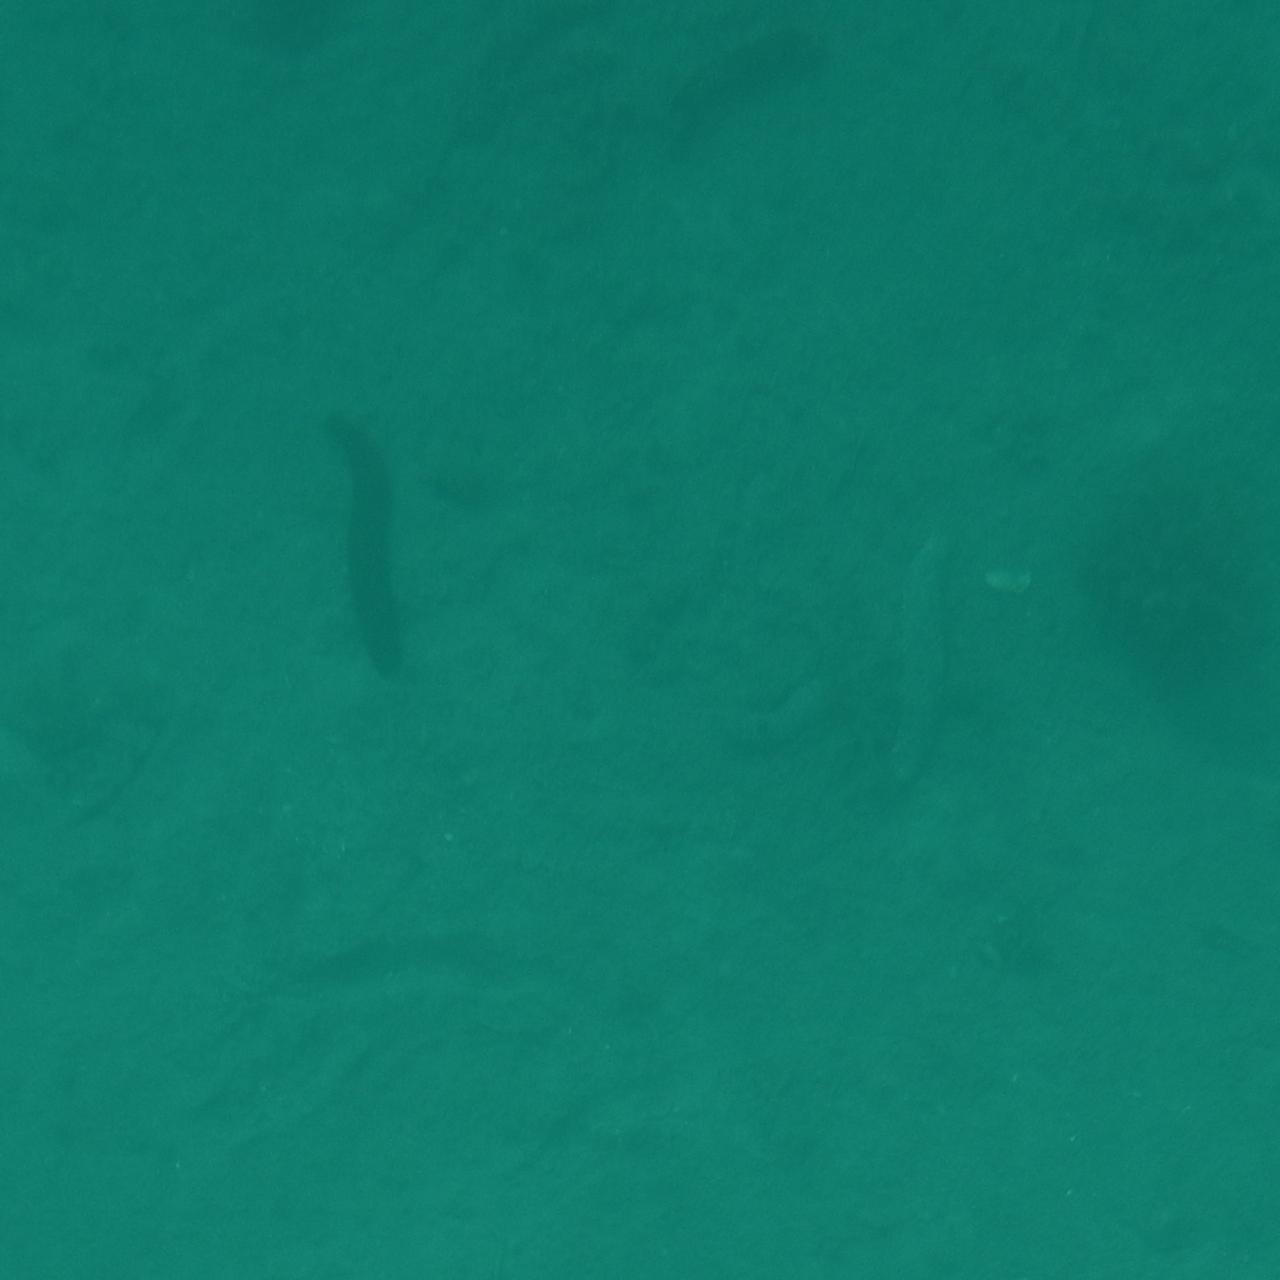Holothuria tubulosa: (849, 433, 971, 844), (320, 350, 422, 706)
